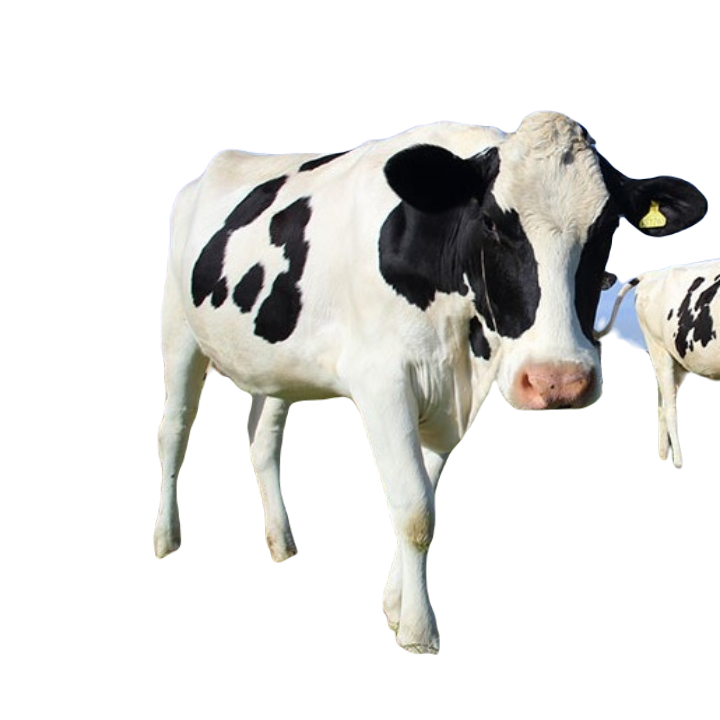Cow: (148, 112, 708, 658)
